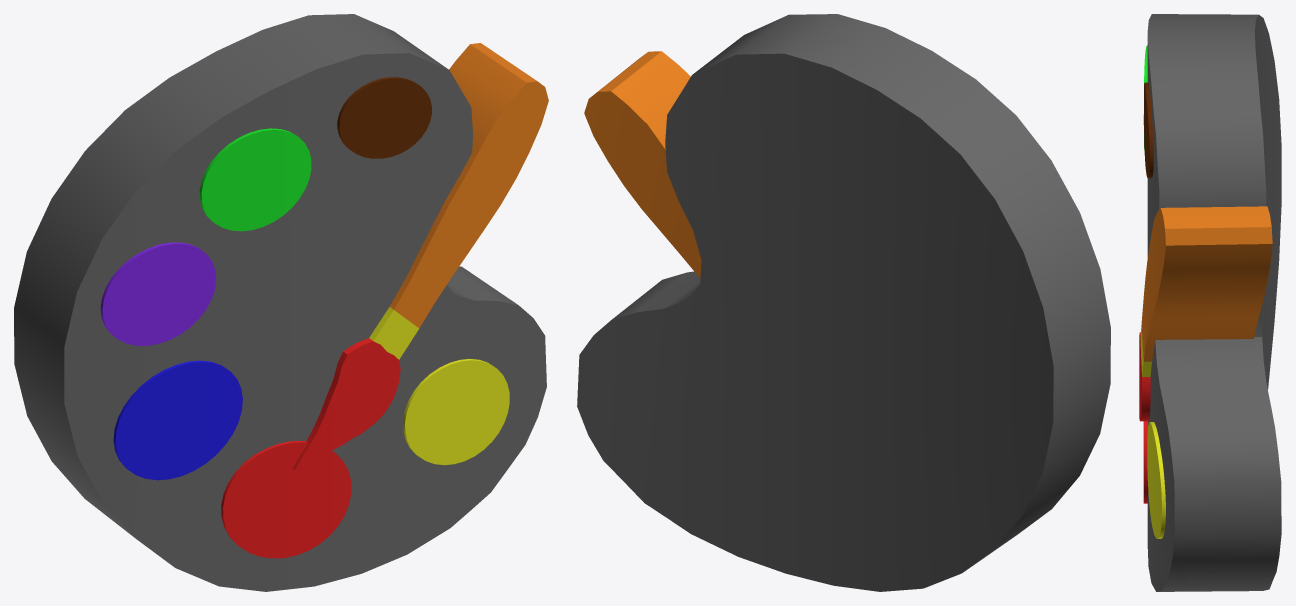
The model's file is Palette_Outer.fbx.
The picture shows the model from 3 angles, left to right: view 1: azimuth 30°, elevation 25°; view 2: azimuth 150°, elevation 25°; view 3: azimuth 270°, elevation 25°; orthographic projection.
Parts seen in each view (by area): view 1: Palette_Outer; view 2: Palette_Outer; view 3: Palette_Outer.
Part boxes in pixels (left/top/right/bottom): Palette_Outer: left=14, top=14, right=548, bottom=591; Palette_Outer: left=577, top=14, right=1110, bottom=591; Palette_Outer: left=1139, top=14, right=1281, bottom=591.
Bounding box in the file's own units: 32.59 × 33.52 × 8.38.
